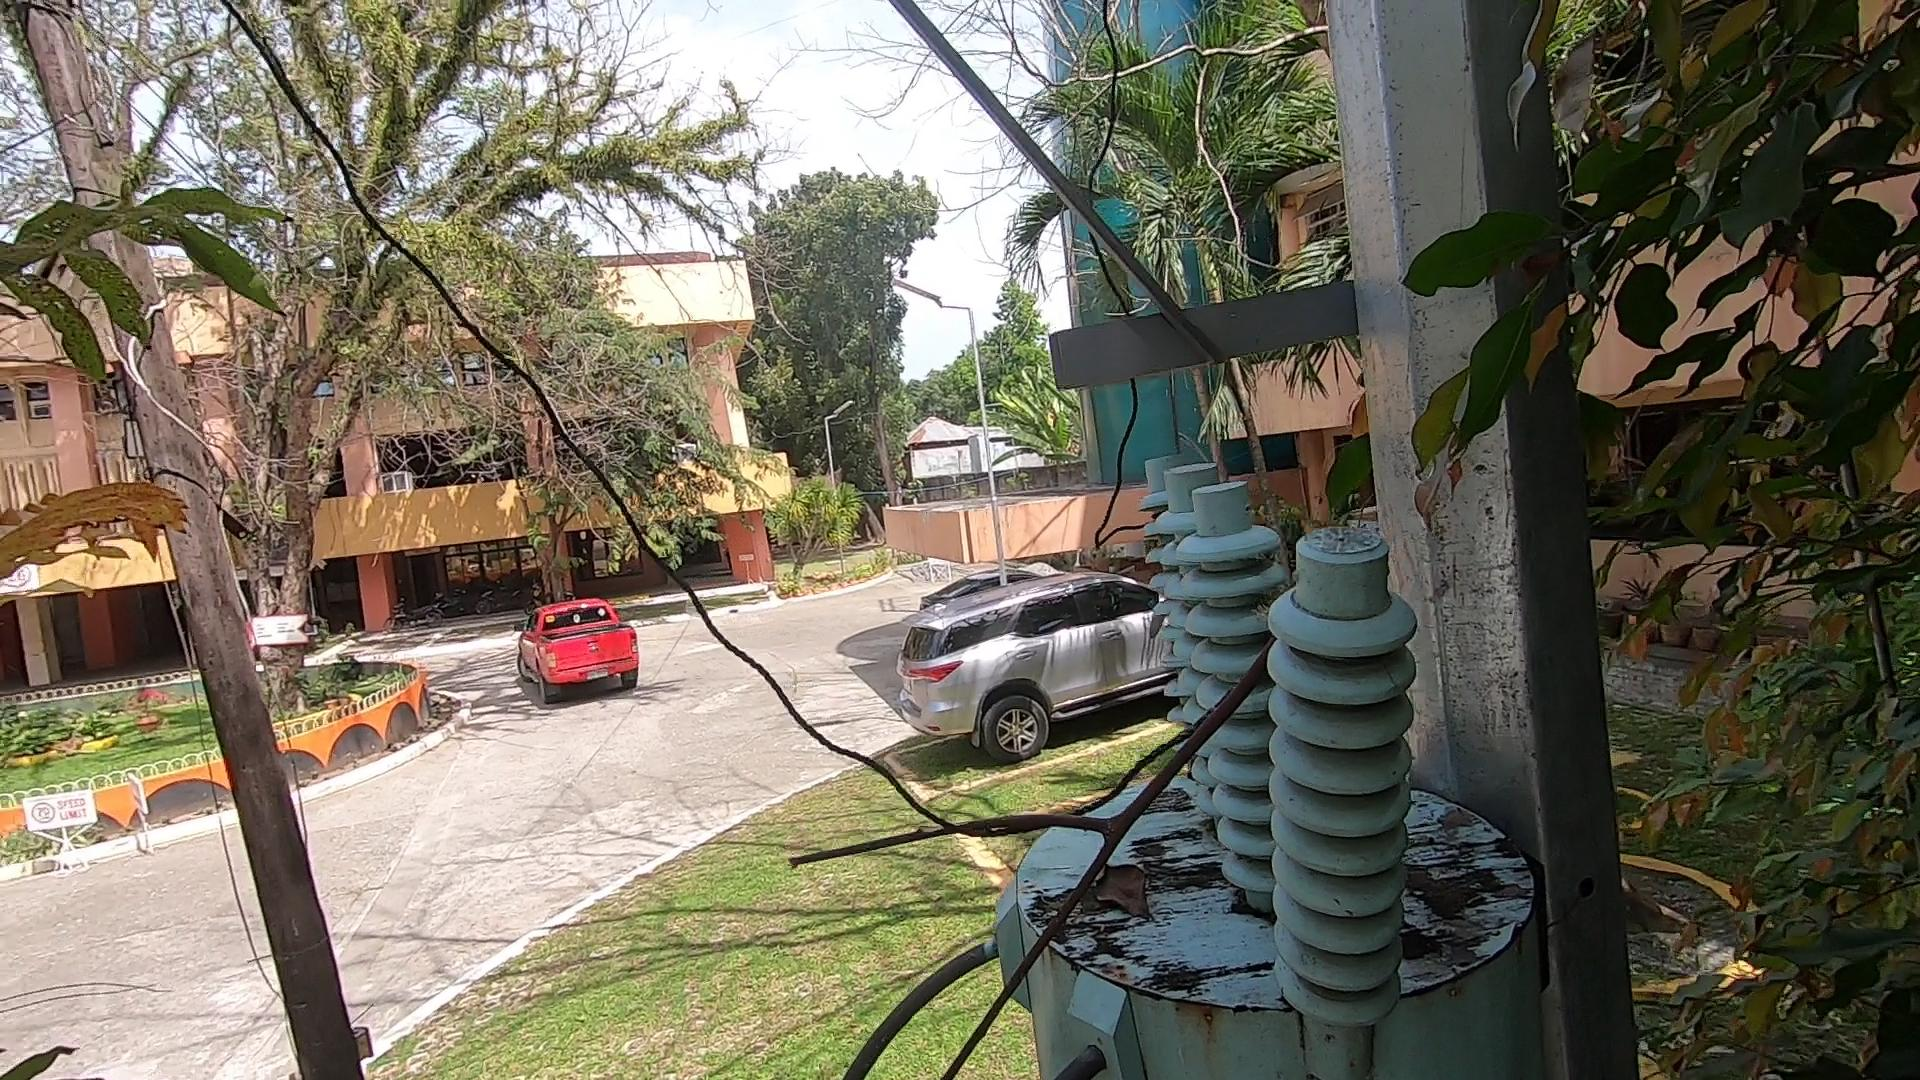leaf: (1076, 848, 1163, 927)
tree branch: (771, 607, 1319, 1080)
